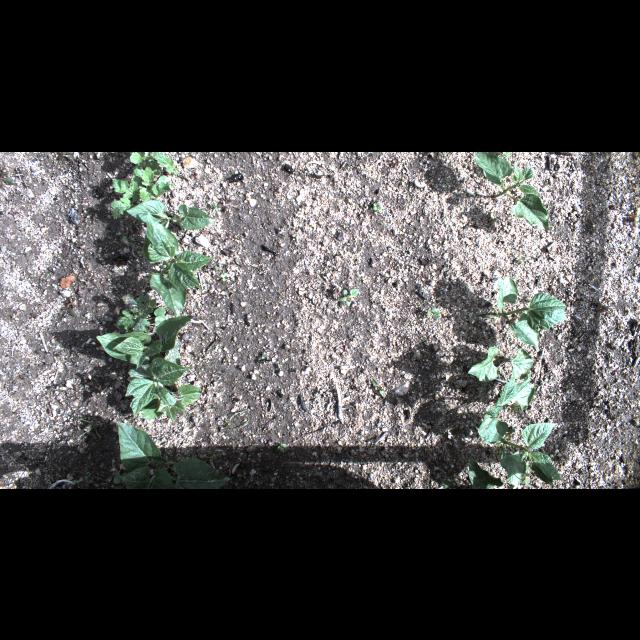crop: (115, 422, 233, 488), (142, 212, 214, 316), (477, 414, 563, 488), (473, 151, 549, 229), (125, 347, 203, 423), (487, 275, 567, 349), (468, 346, 536, 418), (96, 315, 192, 365), (127, 198, 216, 230), (467, 458, 505, 488)
weed: (110, 151, 178, 219), (114, 292, 178, 334), (74, 417, 100, 437), (338, 287, 358, 307), (372, 378, 386, 397), (523, 464, 533, 488), (0, 170, 14, 186), (122, 234, 136, 250), (426, 306, 440, 320), (276, 442, 290, 452), (441, 478, 453, 488), (84, 475, 96, 485), (372, 200, 382, 210), (220, 272, 228, 282), (213, 262, 223, 268), (212, 201, 218, 211), (260, 352, 266, 360)
